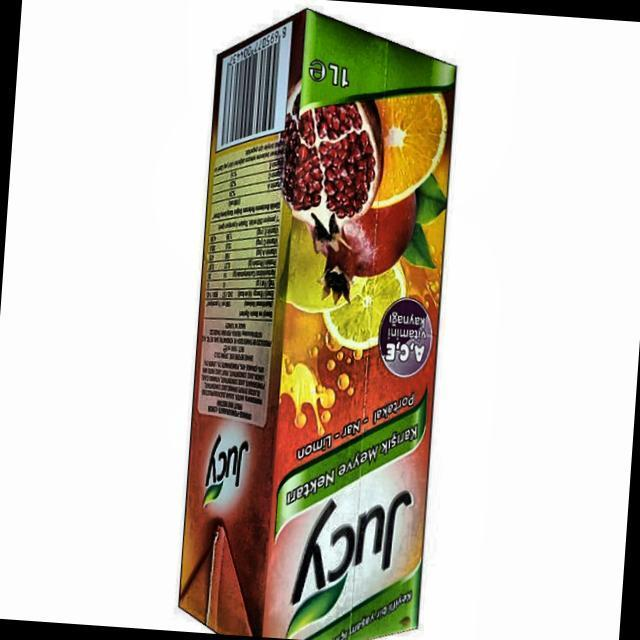cardboard: (174, 2, 462, 640)
